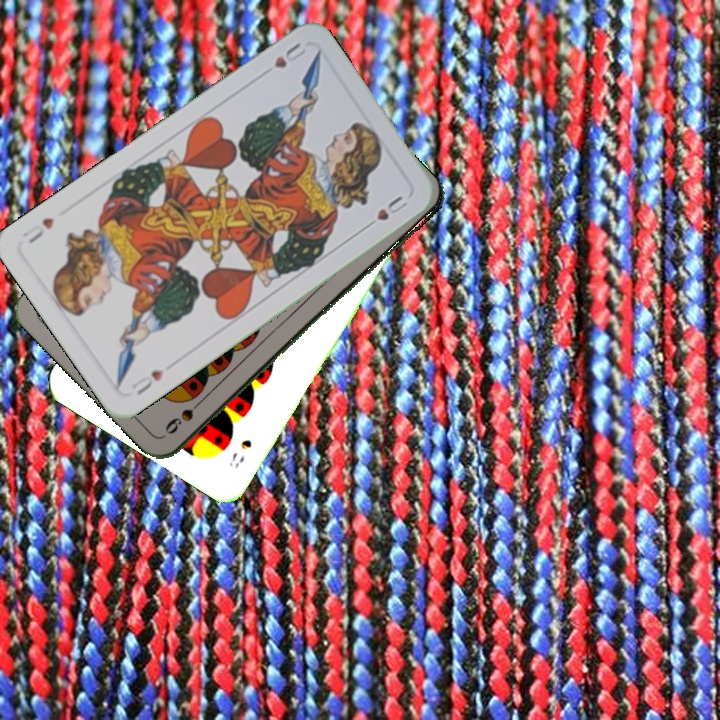HU: (127, 365, 167, 398), (269, 38, 309, 71)
S8: (224, 435, 255, 471)
S9: (162, 392, 209, 437)
